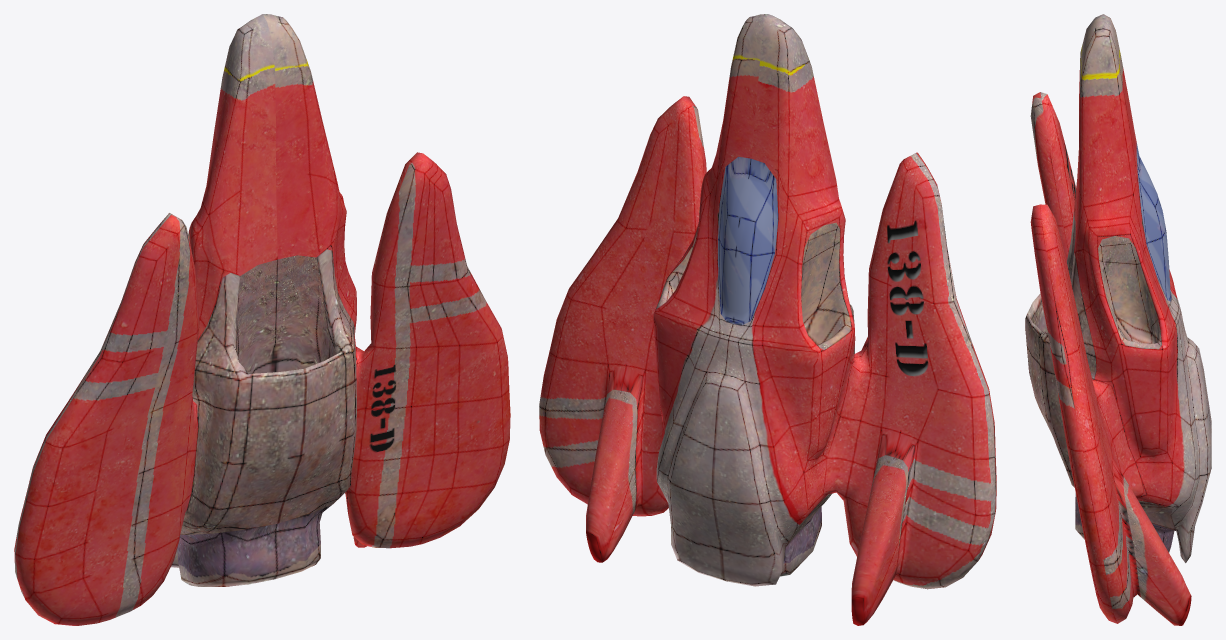
The model's file is FBX_RedShip.fbx.
3 views of the same model, side by side, from view 1: azimuth 30°, elevation 25°; view 2: azimuth 150°, elevation 25°; view 3: azimuth 270°, elevation 25° (orthographic). The views are drawn at different scales.
Visible parts, largest first — view 1: four; view 2: four; view 3: four.
Boxes of the visible parts, <box> form: four: <box>14,14,510,625</box>; four: <box>539,14,996,625</box>; four: <box>1025,14,1211,625</box>.
Size of the model in its own units: 16.2 by 18.74 by 5.79.
